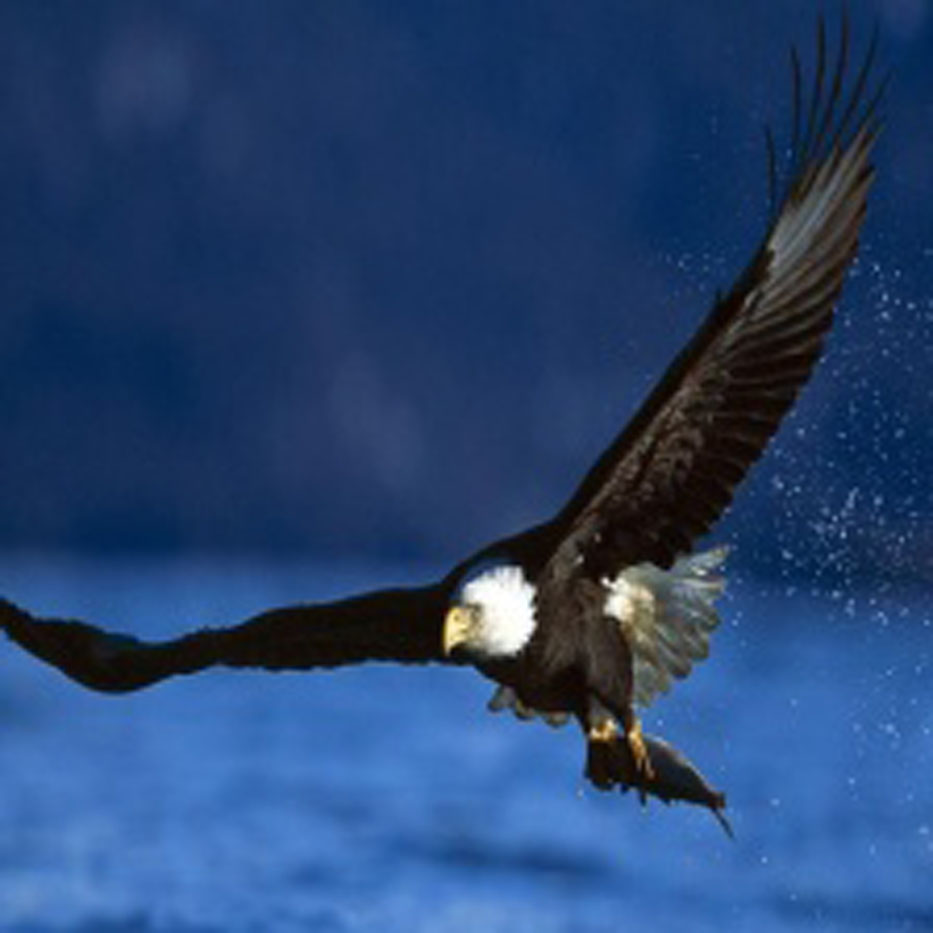Pengoyak Daging: (430, 609, 474, 663)
